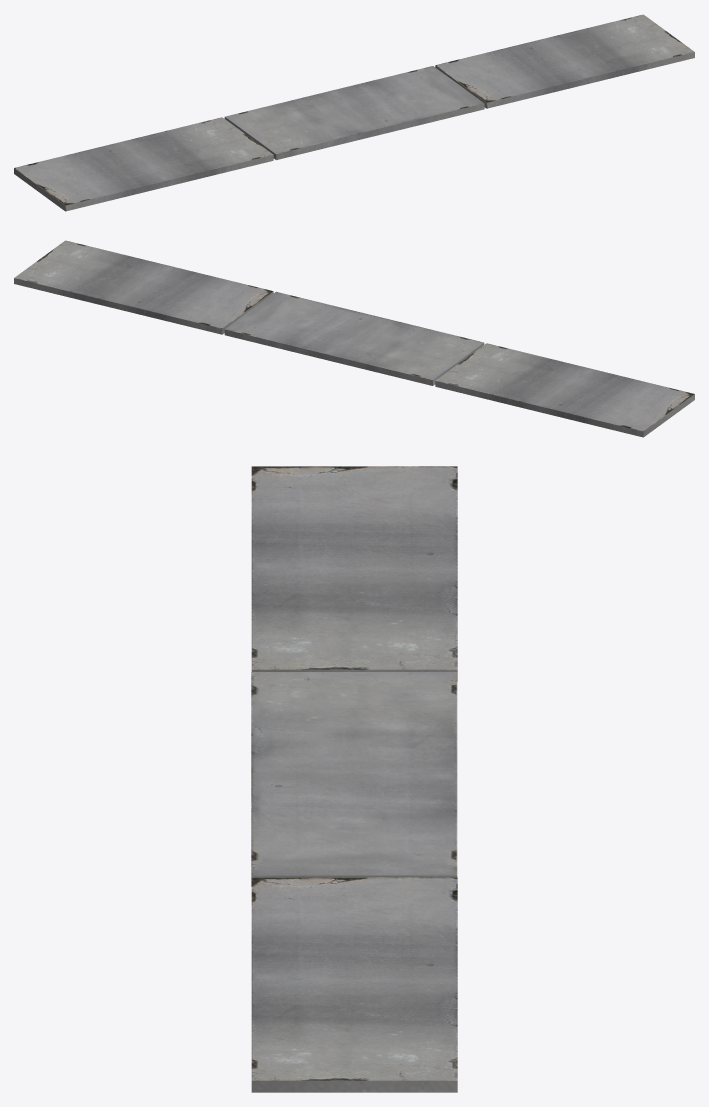
Rendered from plant-road-3.glb.
The picture shows the model from 3 angles, top to bottom: view 1: azimuth 30°, elevation 25°; view 2: azimuth 150°, elevation 25°; view 3: azimuth 270°, elevation 25°; orthographic projection. The views are drawn at different scales.
Visible parts, largest first — view 1: Object8935798; view 2: Object8935798; view 3: Object8935798.
Boxes of the visible parts, x1=… form: Object8935798: x1=14, y1=14, x2=694, y2=211; Object8935798: x1=14, y1=240, x2=694, y2=437; Object8935798: x1=251, y1=466, x2=457, y2=1092.
Bounding box in the file's own units: 19.24 × 0.1721 × 2.73.
2 materials, 2 textured.
